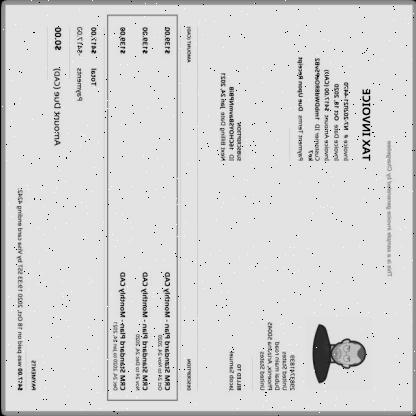Paragraph: (294, 54, 372, 164), (45, 25, 100, 150), (12, 186, 38, 396), (257, 320, 296, 393), (217, 72, 243, 164), (384, 140, 393, 280), (225, 350, 243, 394)
Table: (107, 15, 197, 401)
